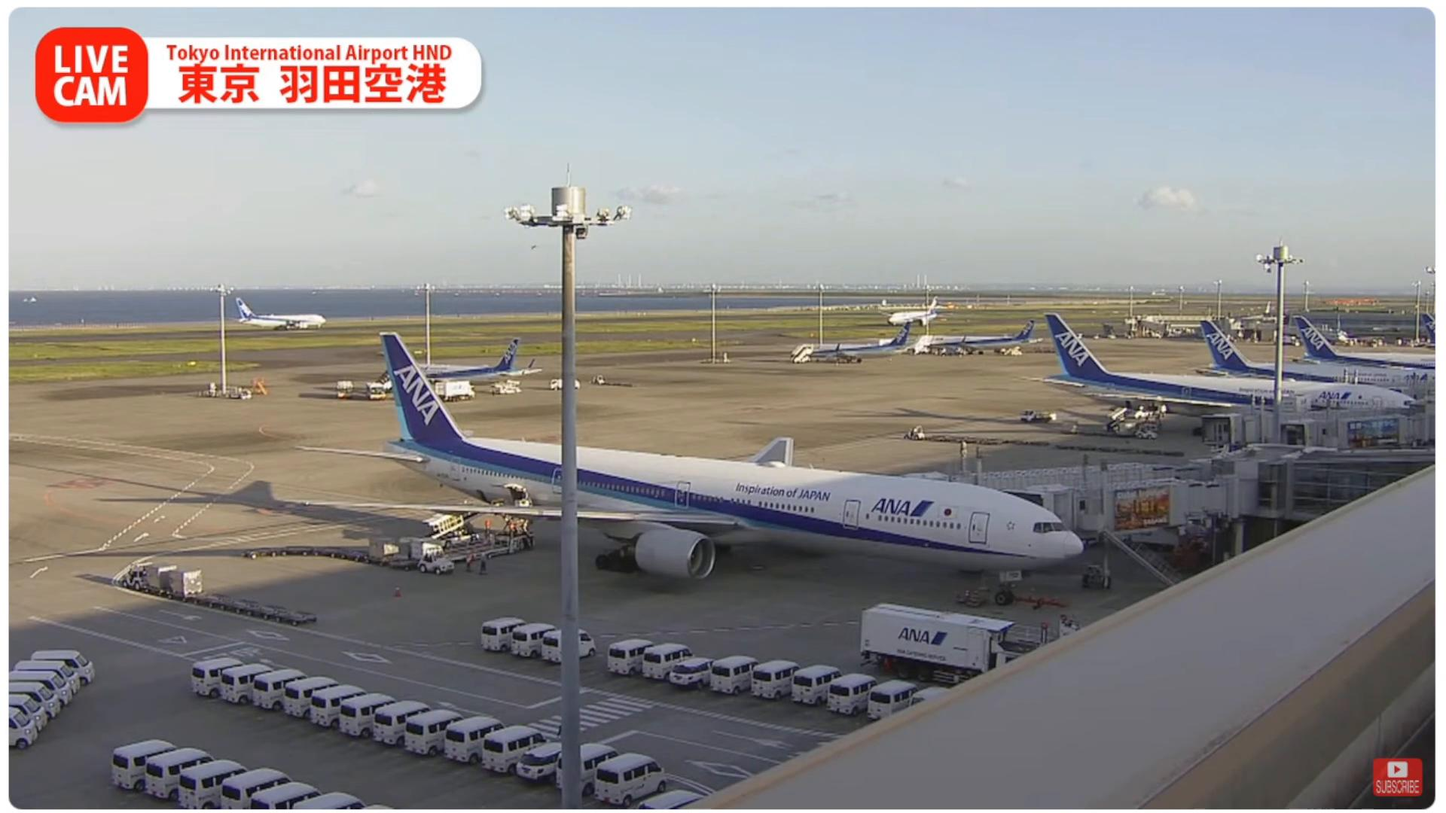Aerobridge: (1002, 452, 1258, 588), (892, 443, 1211, 486)
Airplane: (279, 333, 1086, 605)
Catering: (859, 601, 1039, 686)
Dolly: (144, 584, 316, 626), (244, 546, 416, 571)
JCPL: (442, 501, 535, 562), (1007, 618, 1083, 648)
Skyloader: (420, 500, 486, 547)
Tractor: (417, 546, 454, 575), (121, 560, 152, 590)
ULD: (397, 536, 441, 560), (169, 567, 203, 596), (146, 562, 177, 590), (368, 535, 399, 559)
Window: (1291, 461, 1433, 515)
